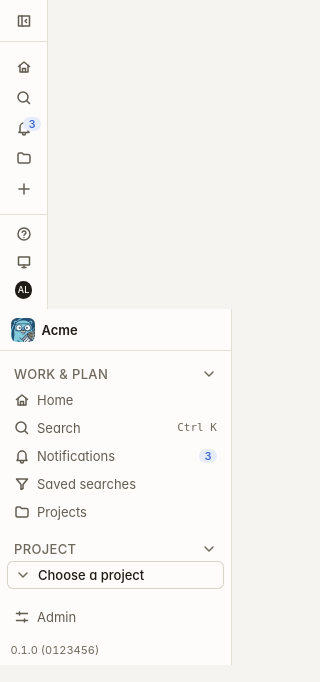
Test case: the shell's chrome › folds a group by its title and remembers it
The width and height of the screenshot is (320, 682).
Click the button "Work & Plan".
click(116, 374)  # box [7,362,224,386]
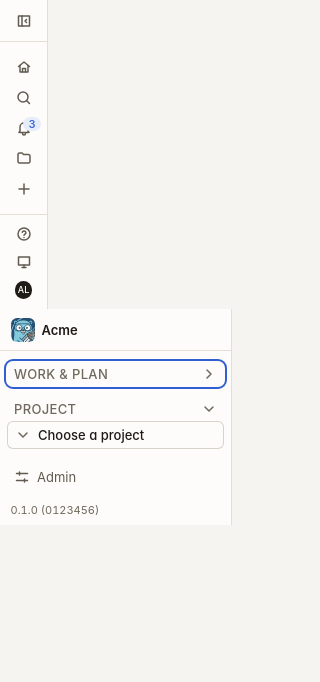
Result: the button "Work & Plan" is collapsed at [7,362,224,386]
